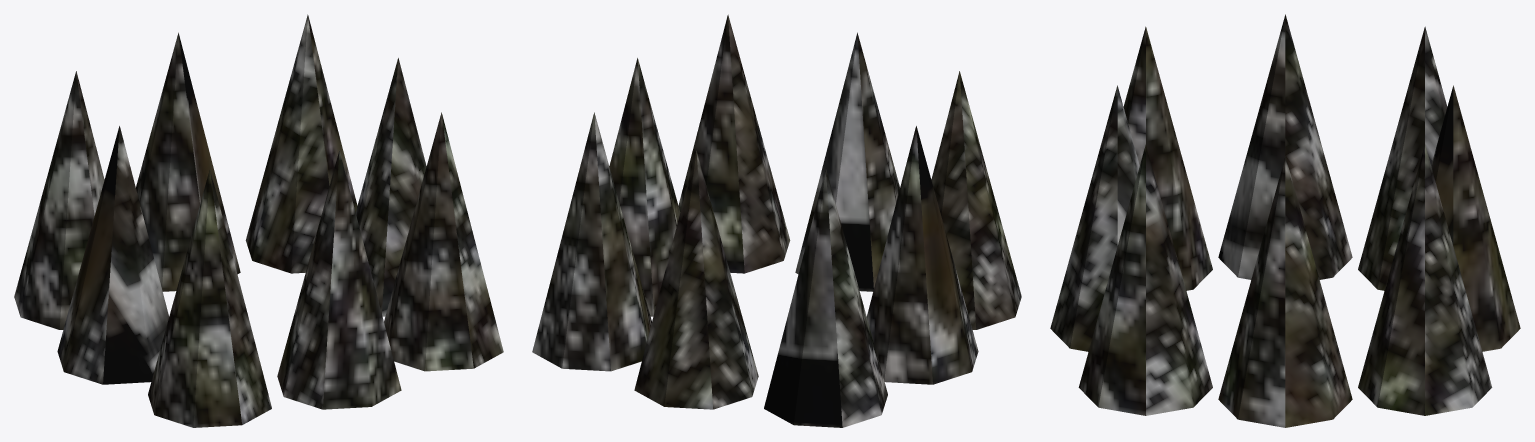
The model's file is RangeStone.gltf.
3 views of the same model, side by side, from view 1: azimuth 30°, elevation 25°; view 2: azimuth 150°, elevation 25°; view 3: azimuth 270°, elevation 25° (orthographic). The views are drawn at different scales.
Visible parts, largest first — view 1: Cone; view 2: Cone; view 3: Cone.
Part boxes in pixels (x1,y1,x2,y2): Cone: [14, 14, 503, 427]; Cone: [532, 14, 1021, 427]; Cone: [1050, 14, 1520, 427].
Bounding box in the file's own units: 2.1 × 1.2 × 2.1.
